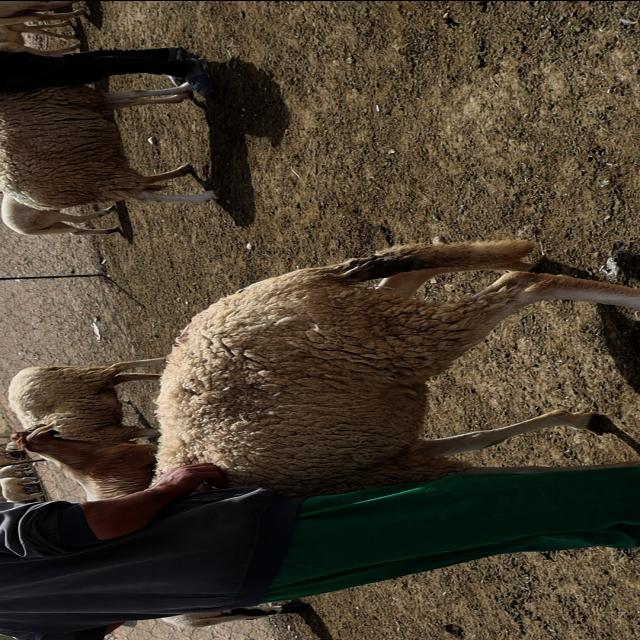Score_1: (155, 238, 639, 495)
